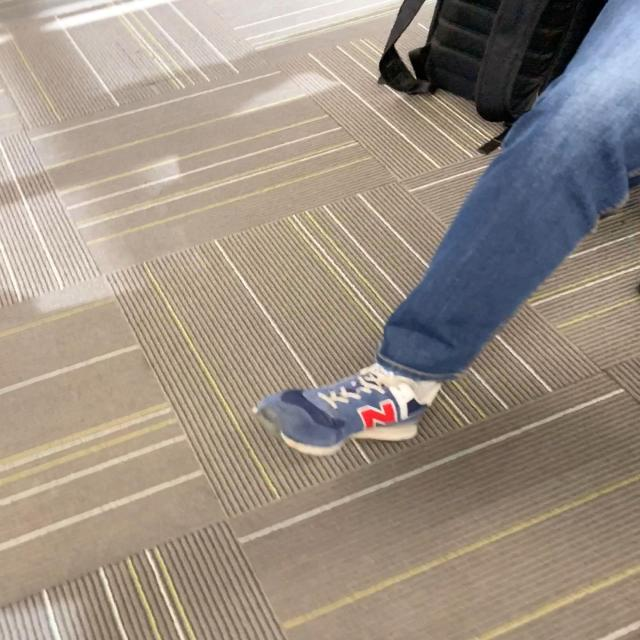shoe: (259, 362, 449, 458)
